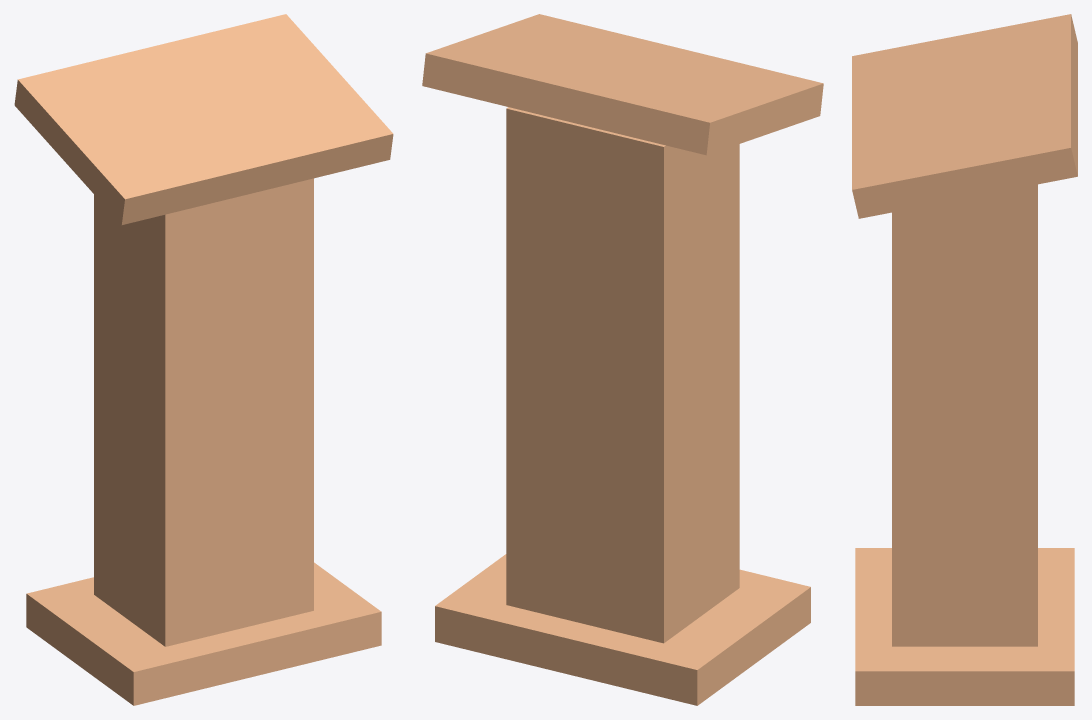
The picture shows the model from 3 angles, left to right: view 1: azimuth 30°, elevation 25°; view 2: azimuth 150°, elevation 25°; view 3: azimuth 270°, elevation 25°; orthographic projection. The views are drawn at different scales.
Parts seen in each view (by area): view 1: Body, Reading top, Foot; view 2: Body, Reading top, Foot; view 3: Body, Reading top, Foot.
Boxes of the visible parts, box(x1,y1,x2,y2) form: Body: box(94, 178, 313, 646); Reading top: box(14, 14, 393, 224); Foot: box(26, 562, 381, 705); Body: box(506, 107, 739, 643); Reading top: box(422, 14, 823, 155); Foot: box(435, 554, 810, 705); Body: box(892, 184, 1037, 646); Reading top: box(852, 14, 1077, 218); Foot: box(855, 548, 1074, 705).
Bounding box in the file's own units: 55.25 × 109 × 39.43.
